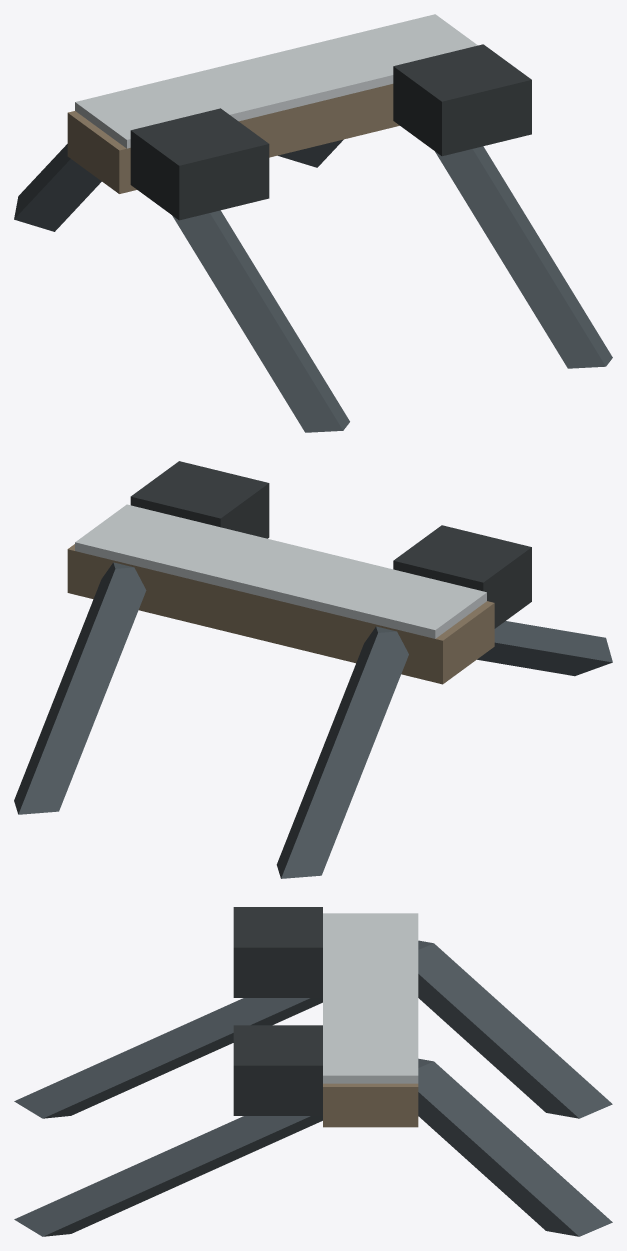
Rendered from siding_buffer.glb.
3 views of the same model, one above another, from view 1: azimuth 30°, elevation 25°; view 2: azimuth 150°, elevation 25°; view 3: azimuth 270°, elevation 25° (orthographic). The views are drawn at different scales.
Parts seen in each view (by area): view 1: siding_buffer; view 2: siding_buffer; view 3: siding_buffer.
Part boxes in pixels (bbox=[...]): siding_buffer: bbox=[14, 14, 612, 432]; siding_buffer: bbox=[14, 461, 612, 878]; siding_buffer: bbox=[14, 907, 612, 1236].
Bounding box in the file's own units: 1.92 × 1 × 2.88.
